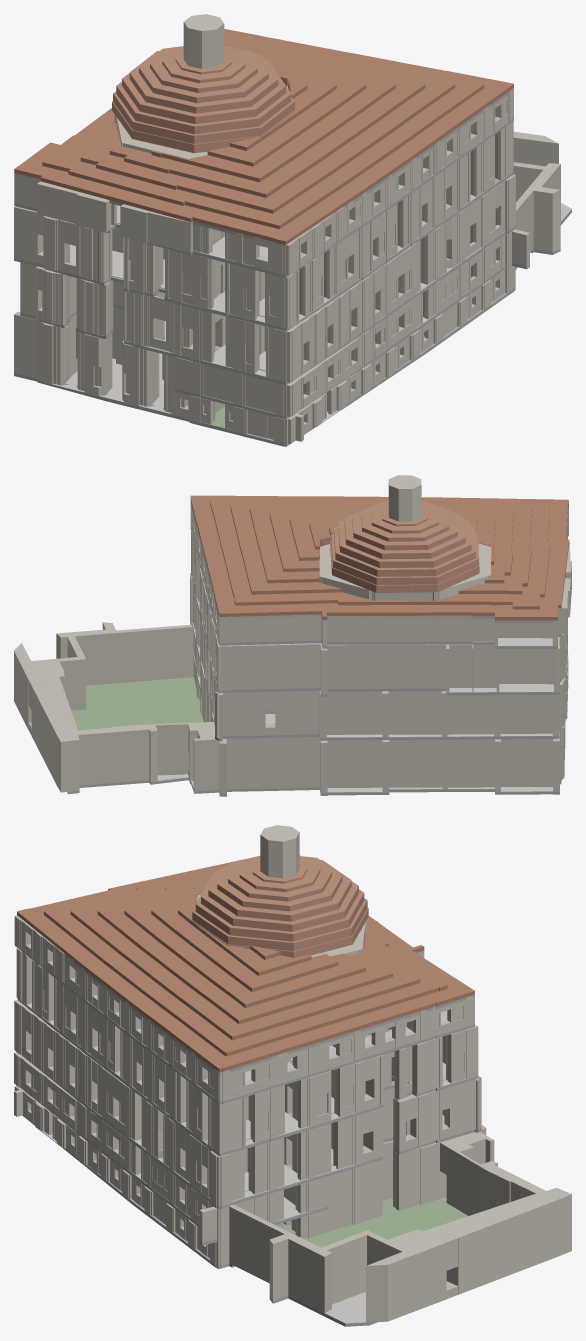
Rendered from crociferi.glb.
The picture shows the model from 3 angles, top to bottom: view 1: azimuth 30°, elevation 25°; view 2: azimuth 150°, elevation 25°; view 3: azimuth 270°, elevation 25°; orthographic projection. The views are drawn at different scales.
Parts seen in each view (by area): view 1: copertura_tetto_613, copertura_tetto_614, copertura_tetto_615, copertura_tetto_616, terra_muro_2, copertura_tetto_617, terra_muro_3, ammezzato_muro_115, terzo_muro_473, copertura_tetto_618, terzo_muro_485, primo_muro_195 (+75 smaller); view 2: terra_muro_3, secondo_muro_332, primo_muro_195, copertura_tetto_613, terra_muro_2, terzo_muro_473, copertura_tetto_614, copertura_tetto_615, terra_esterno_0, copertura_tetto_616, copertura_tamburo_621, copertura_tetto_617 (+19 smaller); view 3: terra_muro_3, terra_muro_2, copertura_tetto_613, copertura_tetto_614, copertura_tetto_615, copertura_tetto_616, copertura_tetto_617, terra_muro_5, copertura_tetto_618, terra_esterno_0, copertura_cupola_625, copertura_cupola_624 (+61 smaller).
Boxes of the visible parts, x1=… form: copertura_tetto_613: x1=14, y1=29, x2=513, y2=244; copertura_tetto_614: x1=42, y1=35, x2=484, y2=229; copertura_tetto_615: x1=80, y1=43, x2=455, y2=213; copertura_tetto_616: x1=109, y1=50, x2=425, y2=197; terra_muro_2: x1=495, y1=131, x2=560, y2=296; copertura_tetto_617: x1=151, y1=60, x2=395, y2=182; terra_muro_3: x1=14, y1=293, x2=164, y2=385; ammezzato_muro_115: x1=175, y1=357, x2=303, y2=417; terzo_muro_473: x1=14, y1=173, x2=116, y2=232; copertura_tetto_618: x1=207, y1=67, x2=366, y2=166; terzo_muro_485: x1=120, y1=204, x2=224, y2=253; primo_muro_195: x1=20, y1=262, x2=123, y2=324; terra_muro_3: x1=31, y1=682, x2=564, y2=794; secondo_muro_332: x1=215, y1=634, x2=559, y2=694; primo_muro_195: x1=265, y1=678, x2=565, y2=737; copertura_tetto_613: x1=190, y1=495, x2=569, y2=620; terra_muro_2: x1=14, y1=622, x2=200, y2=729; terzo_muro_473: x1=217, y1=578, x2=570, y2=646; copertura_tetto_614: x1=210, y1=500, x2=550, y2=609; copertura_tetto_615: x1=230, y1=504, x2=531, y2=594; terra_esterno_0: x1=71, y1=677, x2=567, y2=730; copertura_tetto_616: x1=249, y1=508, x2=513, y2=583; copertura_tamburo_621: x1=319, y1=543, x2=491, y2=600; copertura_tetto_617: x1=269, y1=513, x2=495, y2=571; terra_muro_3: x1=383, y1=1125, x2=571, y2=1294; terra_muro_2: x1=206, y1=1195, x2=446, y2=1322; copertura_tetto_613: x1=17, y1=855, x2=474, y2=1072; copertura_tetto_614: x1=44, y1=871, x2=447, y2=1056; copertura_tetto_615: x1=70, y1=878, x2=420, y2=1040; copertura_tetto_616: x1=97, y1=885, x2=393, y2=1024; copertura_tetto_617: x1=124, y1=892, x2=365, y2=1008; terra_muro_5: x1=291, y1=1159, x2=382, y2=1238; copertura_tetto_618: x1=151, y1=900, x2=338, y2=991; terra_esterno_0: x1=283, y1=1198, x2=467, y2=1247; copertura_cupola_625: x1=201, y1=870, x2=358, y2=931; copertura_cupola_624: x1=195, y1=877, x2=364, y2=941.
Size of the model in its own units: 62.86 by 32 by 53.38.
